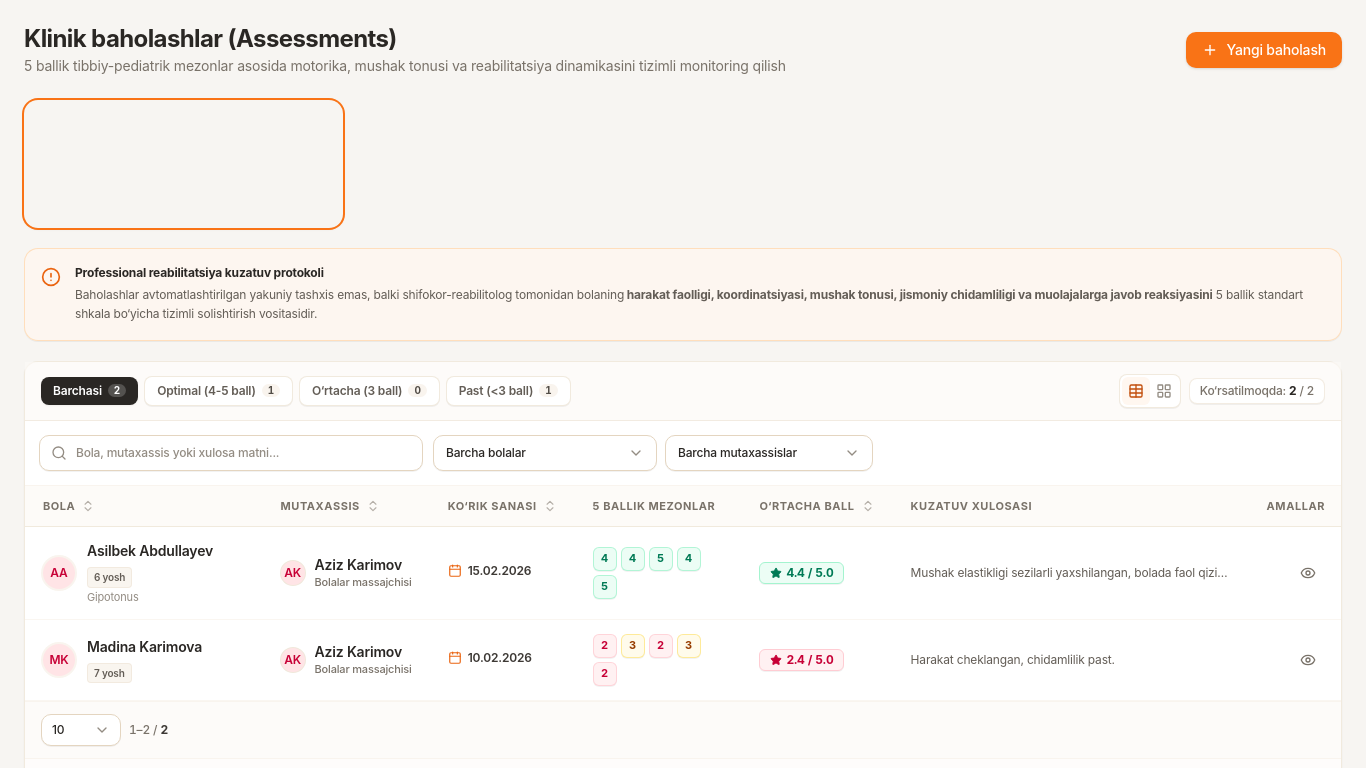
AssessmentsPage Component › opens assessment details modal upon clicking eye button
The image size is (1366, 768).
Click the button named "Batafsil ko'rish" in the row of "AA".
click(1308, 573)  # box [1293, 558, 1323, 588]
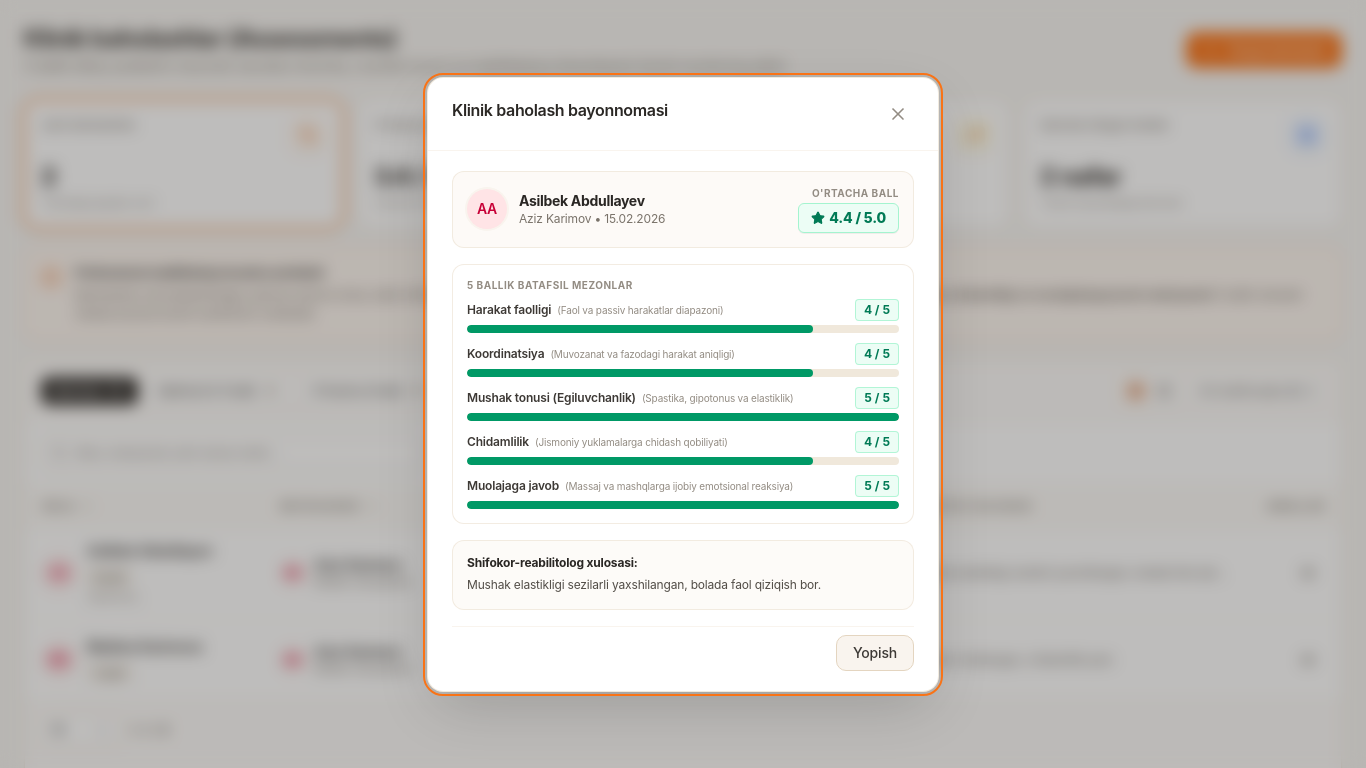
Result: the heading "Klinik baholash bayonnomasi" is shown at [452, 98, 668, 122]
Result: the text "Harakat faolligi" is shown at [467, 302, 551, 317]
